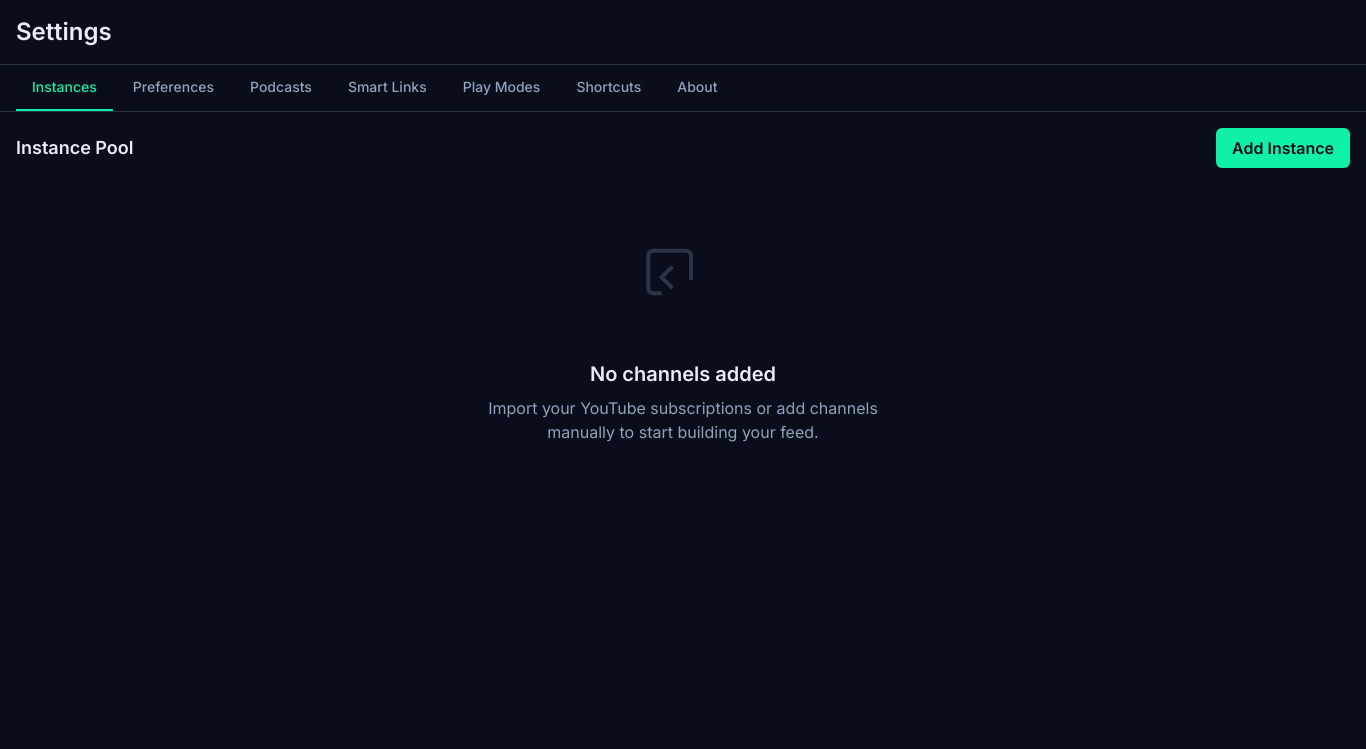
it: Settings → Play Modes rule editor (D7) › surfaces a danger toast when saving a rule fails
Click the tab "Play Modes": click(502, 88) [447,65,556,111]
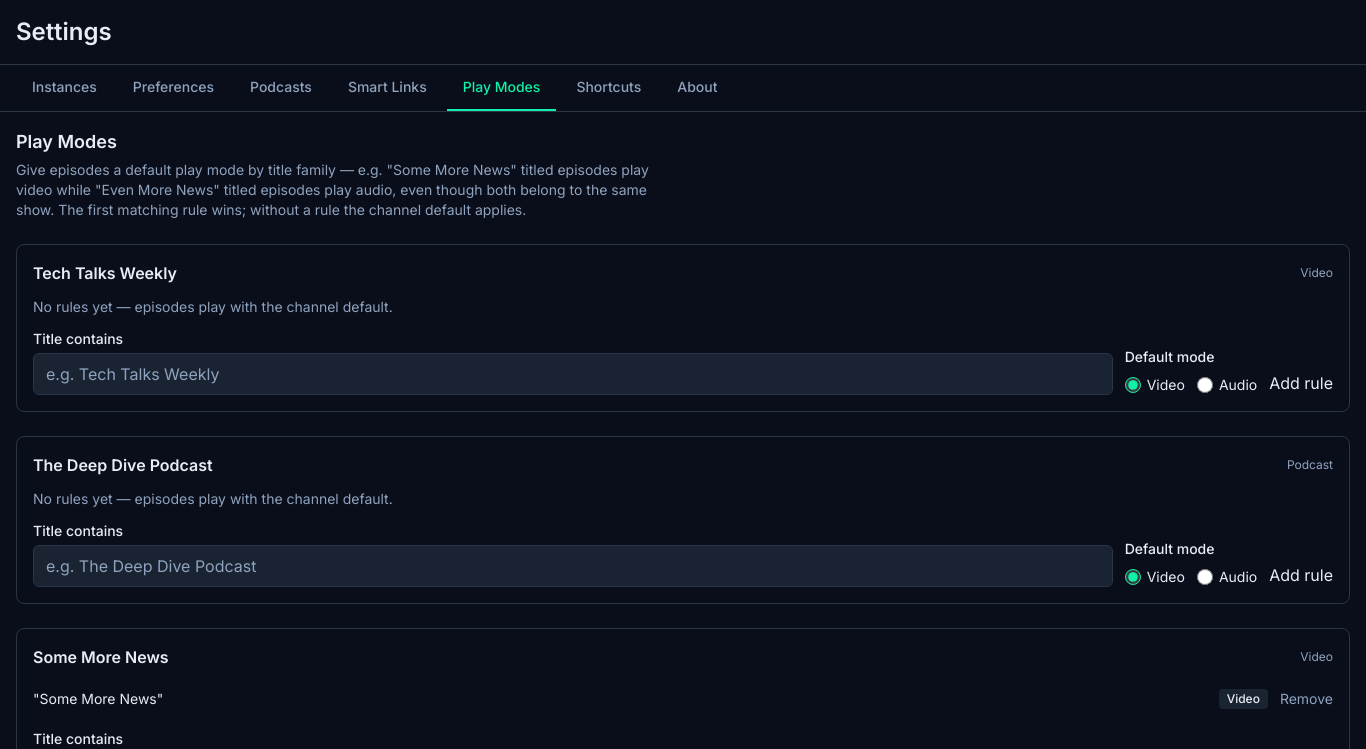
In the field labelled "Title contains" below "Tech Talks Weekly": (573, 374) [33,353,1113,395], type "Cody"
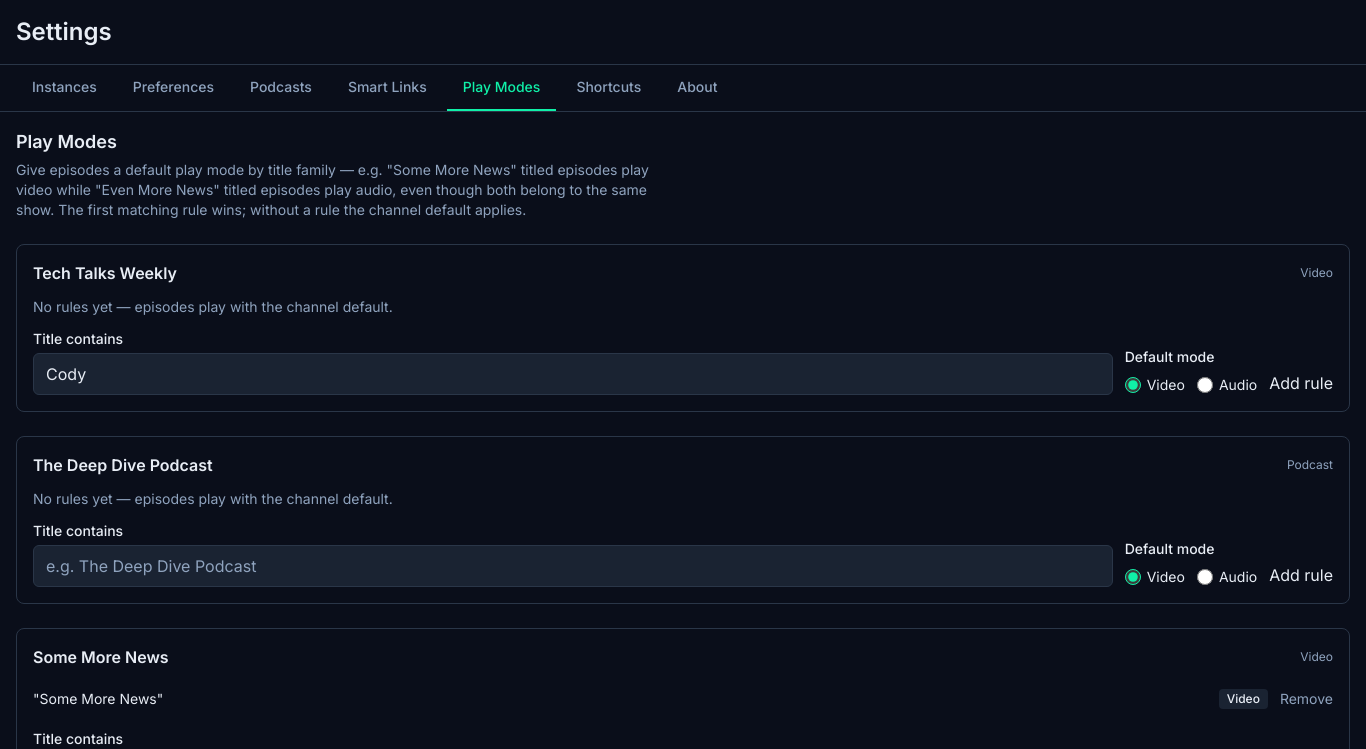
Click the 1st button "Add rule": click(1301, 383) [1269,371,1333,395]
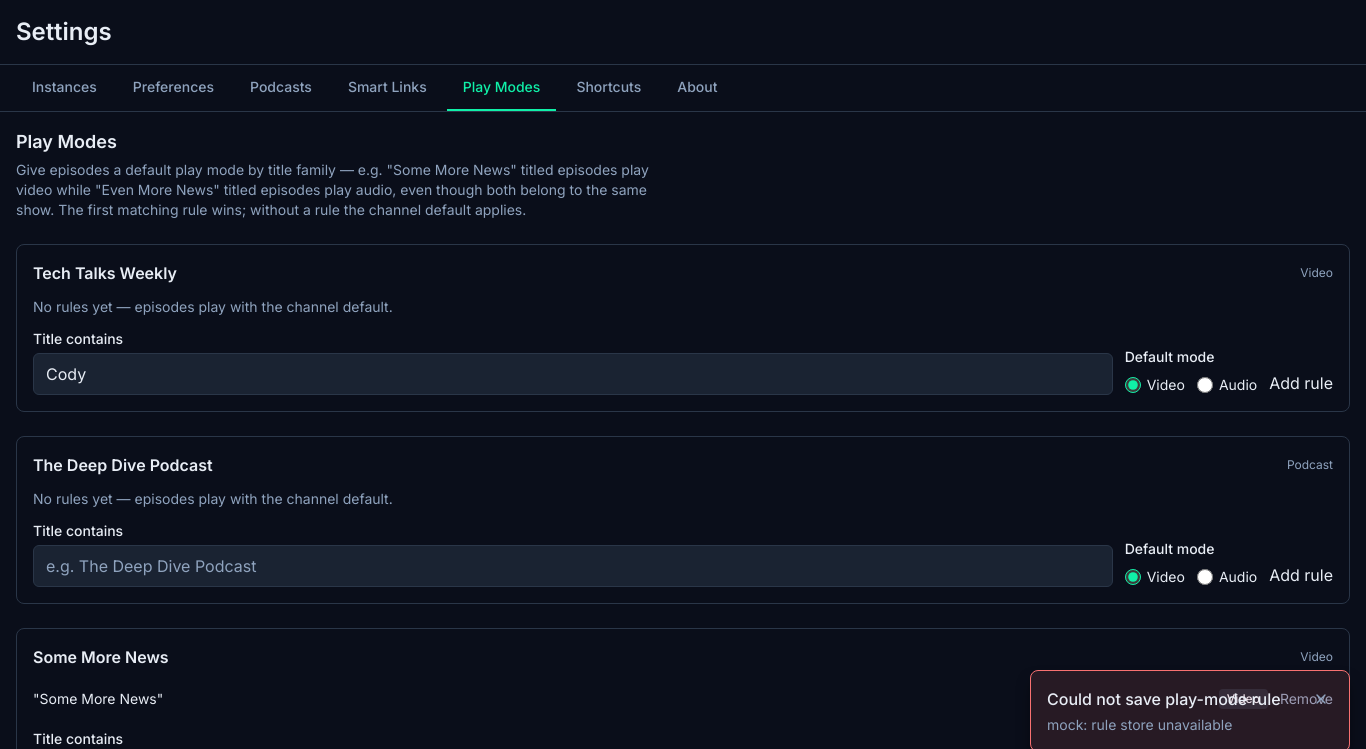
Result: the text "Could not save play-mode rule" is shown at [1047,687,1297,711]
Result: the text "mock: rule store unavailable" is shown at [1047,716,1232,733]
